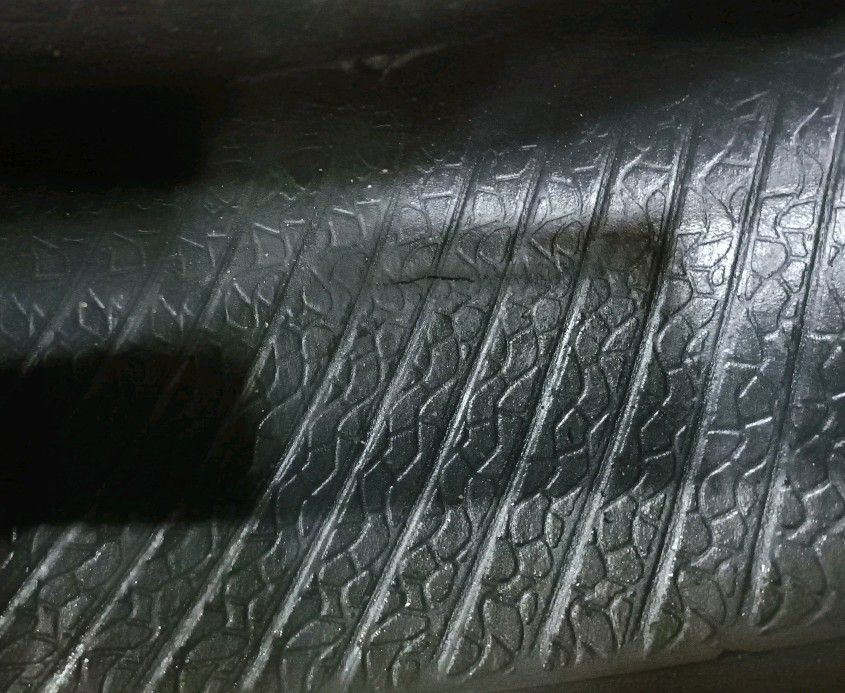CBU: (301, 225, 669, 303)
cut: (371, 267, 484, 293)
